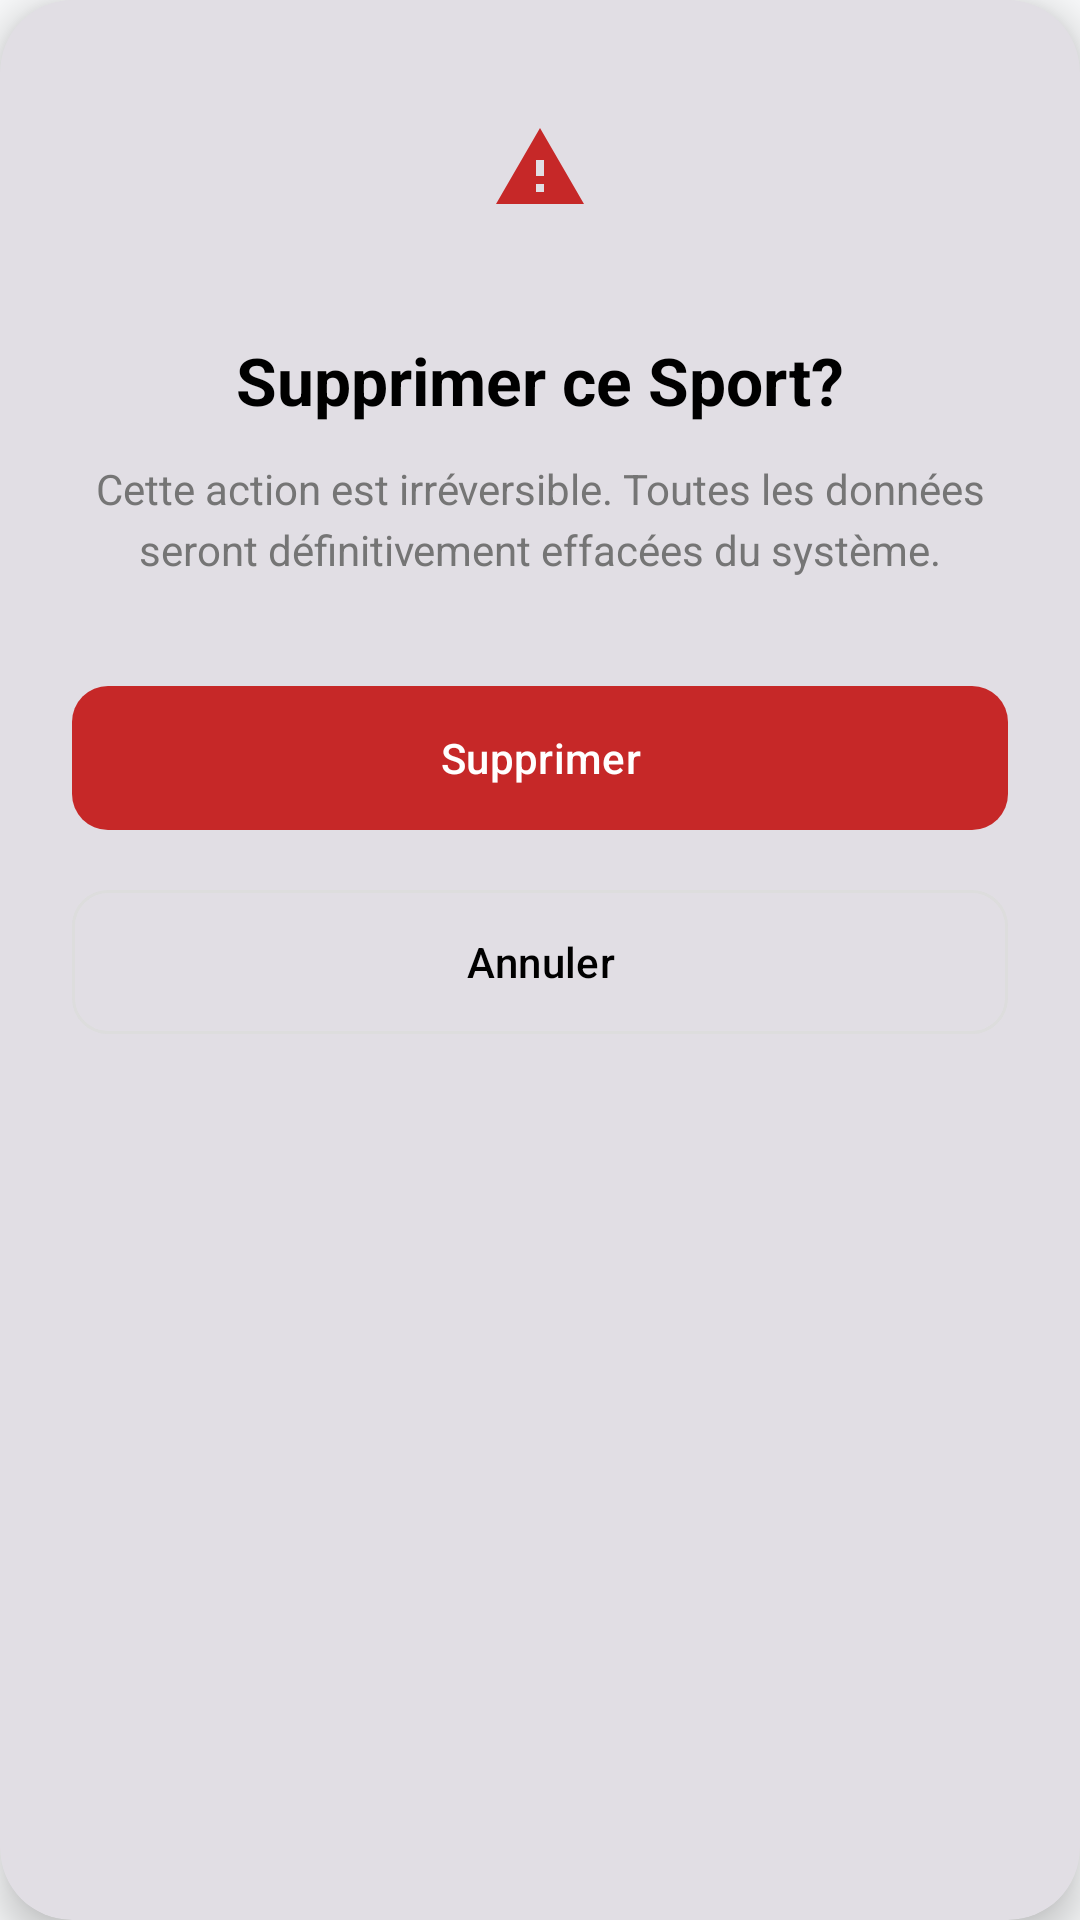

Named icons in this screenshot (1080w x 1920h) and their bounding boxes, bbox(x1, y1, x2, y2):
warning: bbox(496, 128, 584, 204)
